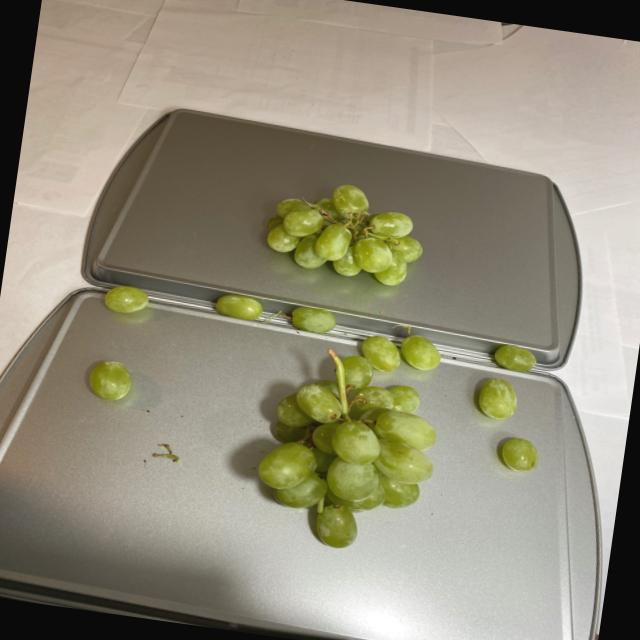grapes: (66, 274, 553, 568), (255, 175, 424, 292)
